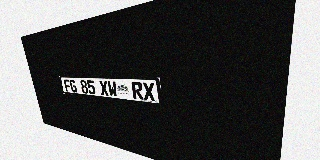plate: (59, 76, 162, 105)
